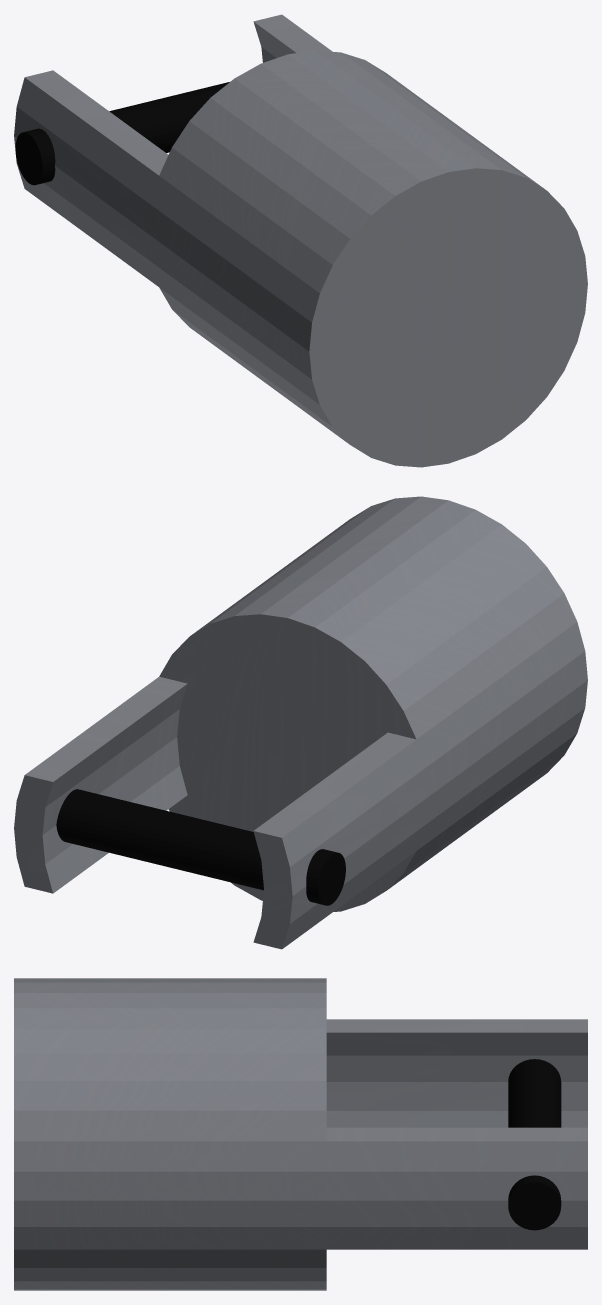
File: cardan.obj
3 views of the same model, one above another, from view 1: azimuth 30°, elevation 25°; view 2: azimuth 150°, elevation 25°; view 3: azimuth 270°, elevation 25° (orthographic). The views are drawn at different scales.
Parts seen in each view (by area): view 1: Cylinder, Cylinder.001; view 2: Cylinder, Cylinder.001; view 3: Cylinder, Cylinder.001.
Boxes of the visible parts, x1,y1,x2,y2 form: Cylinder: (14,14,587,467); Cylinder.001: (15,82,229,185); Cylinder: (14,496,587,949); Cylinder.001: (56,789,345,905); Cylinder: (14,978,587,1290); Cylinder.001: (508,1059,561,1230).
Size of the model in its own units: 2.18 by 2 by 3.67.
2 materials, 2 textured.
